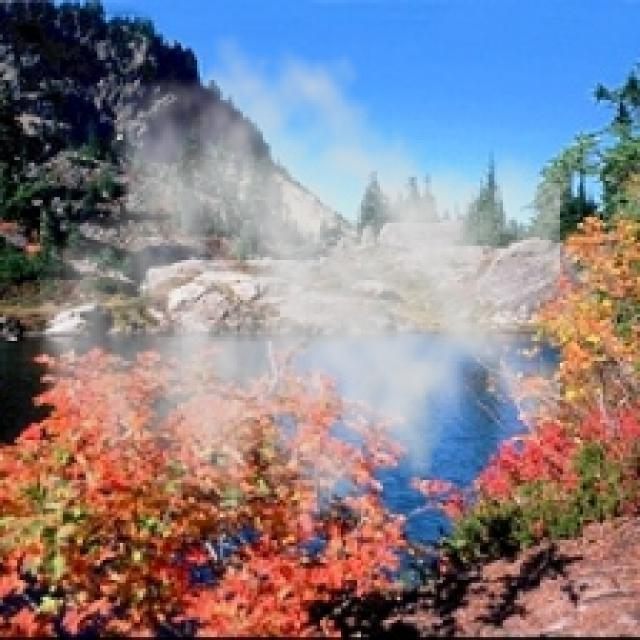Smoke: (34, 28, 560, 574)
